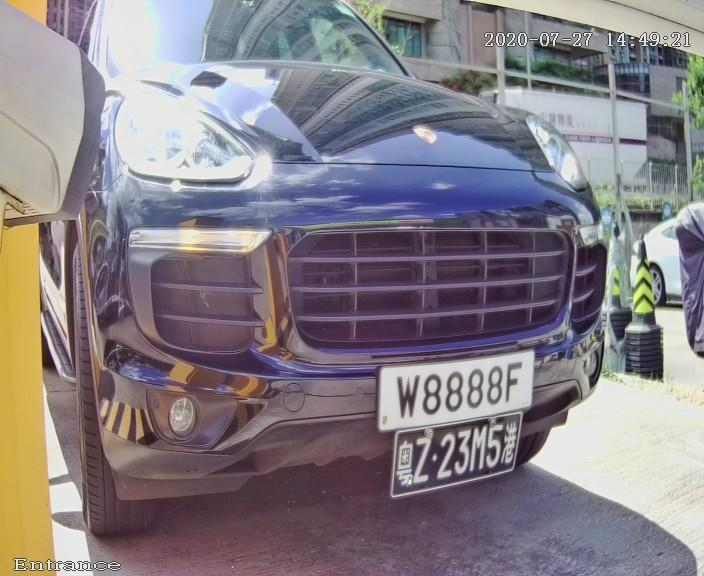privatecar: (35, 8, 629, 546)
